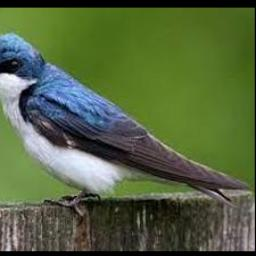Swallow: (0, 30, 250, 209)
